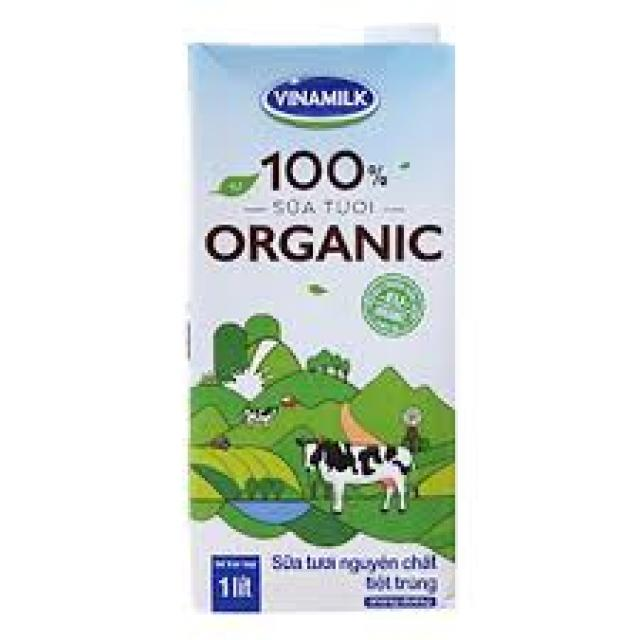non_white_jug: (156, 8, 481, 626)
